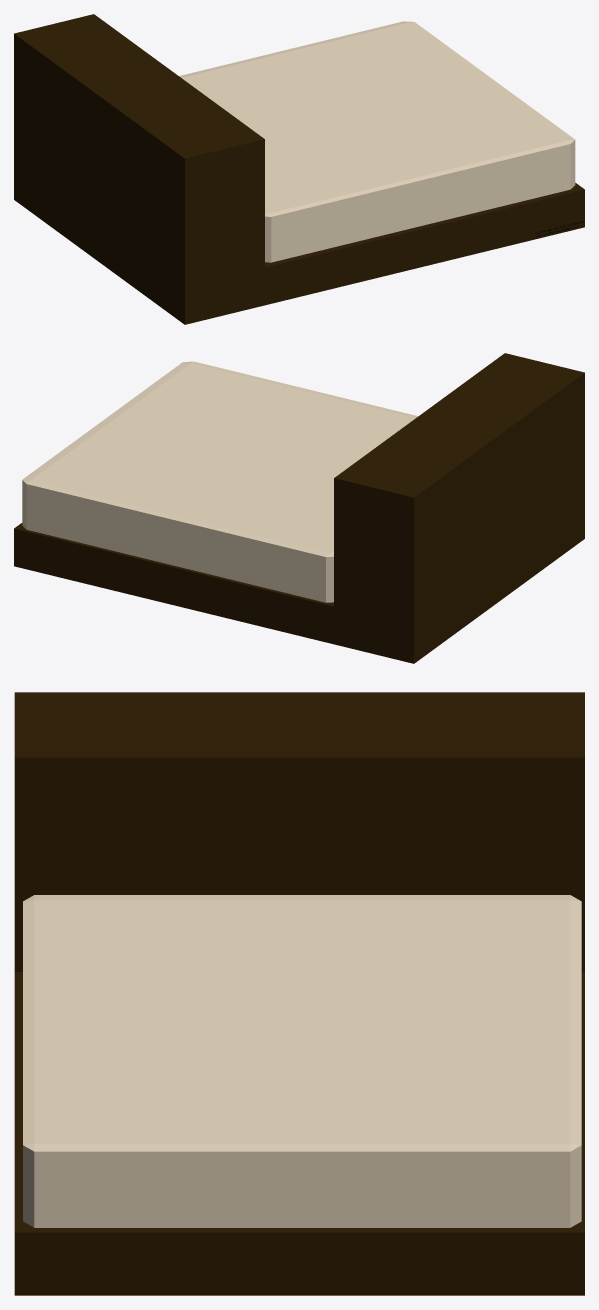
File: bed.fbx
3 views of the same model, one above another, from view 1: azimuth 30°, elevation 25°; view 2: azimuth 150°, elevation 25°; view 3: azimuth 270°, elevation 25° (orthographic). The views are drawn at different scales.
Parts seen in each view (by area): view 1: Cube, Cube.001; view 2: Cube, Cube.001; view 3: Cube.001, Cube.
Boxes of the visible parts, bbox=[...] form: Cube: bbox=[14, 14, 584, 324]; Cube.001: bbox=[179, 21, 575, 262]; Cube: bbox=[14, 353, 584, 663]; Cube.001: bbox=[22, 361, 417, 602]; Cube.001: bbox=[23, 895, 581, 1227]; Cube: bbox=[14, 692, 584, 1295].
Bounding box in the file's own units: 751 × 298 × 556.
